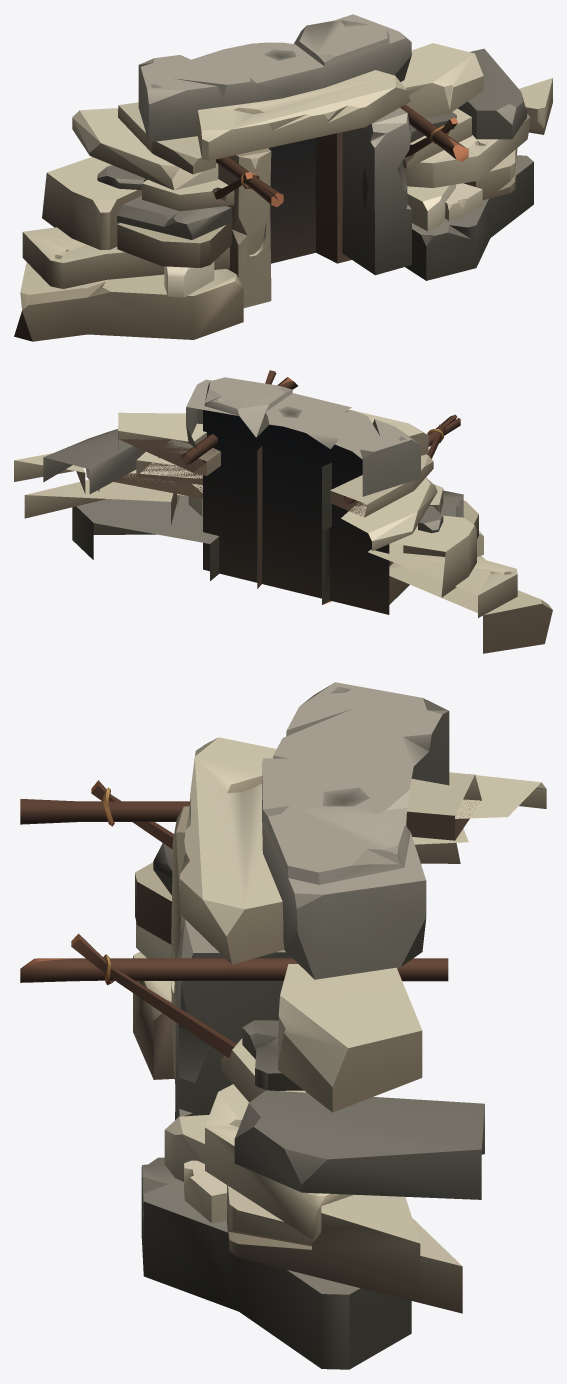
Rendered from Cave_Entrance_1A.fbx.
The picture shows the model from 3 angles, top to bottom: view 1: azimuth 30°, elevation 25°; view 2: azimuth 150°, elevation 25°; view 3: azimuth 270°, elevation 25°; orthographic projection. The views are drawn at different scales.
Visible parts, largest first — view 1: Cave_Entrance_1A; view 2: Cave_Entrance_1A; view 3: Cave_Entrance_1A.
Boxes of the visible parts, box(x1,y1,x2,y2) form: Cave_Entrance_1A: box(14, 14, 552, 341); Cave_Entrance_1A: box(14, 370, 552, 653); Cave_Entrance_1A: box(20, 682, 546, 1369).
Size of the model in its own units: 8.07 by 2.84 by 3.66.
